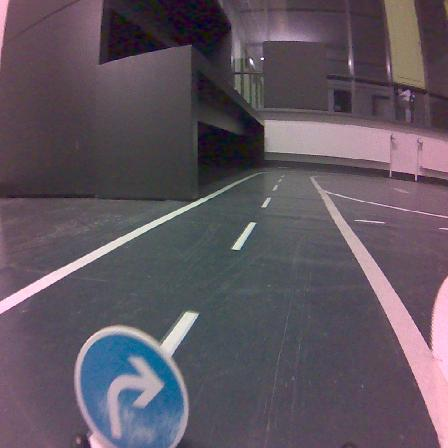RIGHT_TURN: (75, 326, 187, 447)
